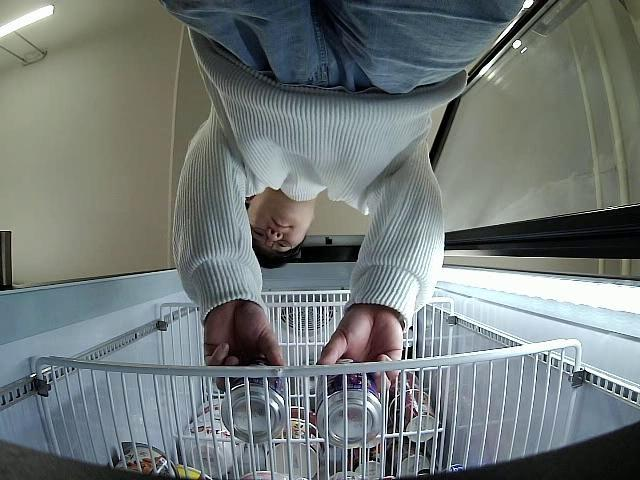14_welchsGrape: (313, 352, 381, 448), (220, 360, 290, 445)
